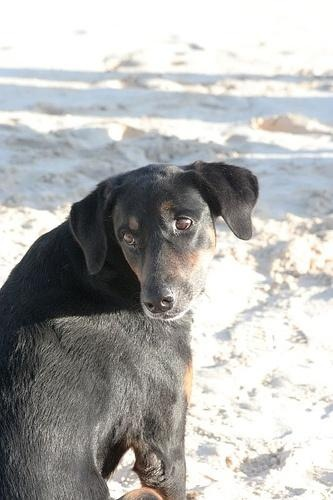dog: (1, 157, 269, 500)
